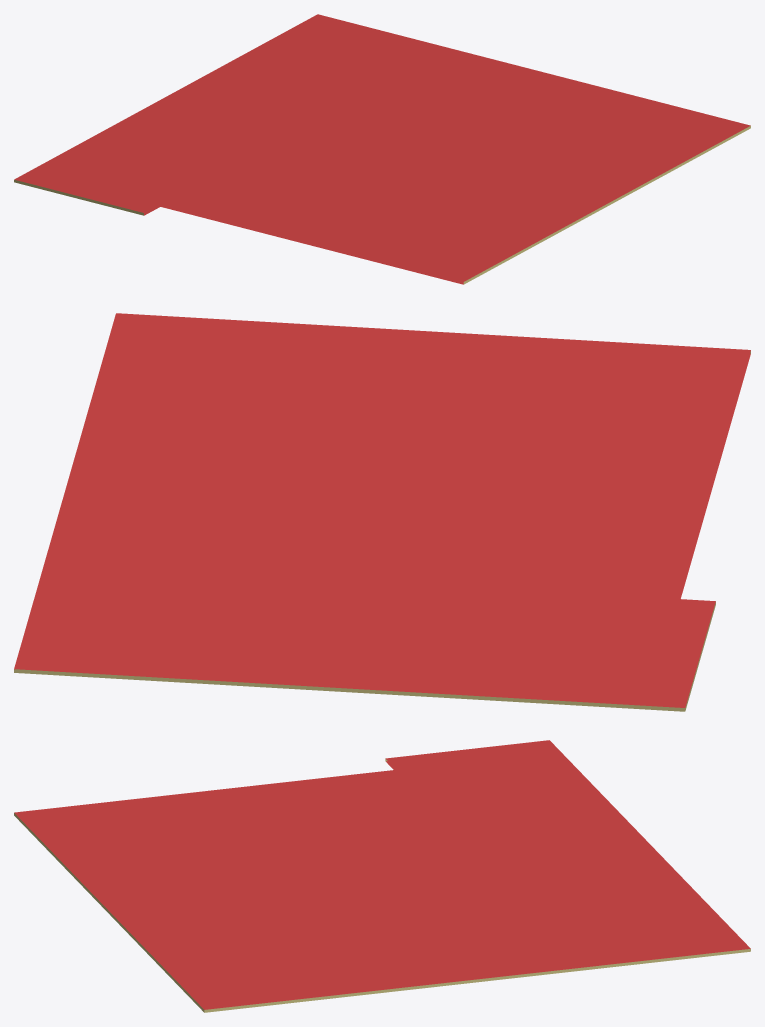
3 renders of one model, top to bottom at view 1: azimuth 30°, elevation 25°; view 2: azimuth 150°, elevation 25°; view 3: azimuth 270°, elevation 25°, orthographic. The views are drawn at different scales.
Size of the model in its own units: 22.23 by 22.86 by 1.23.
